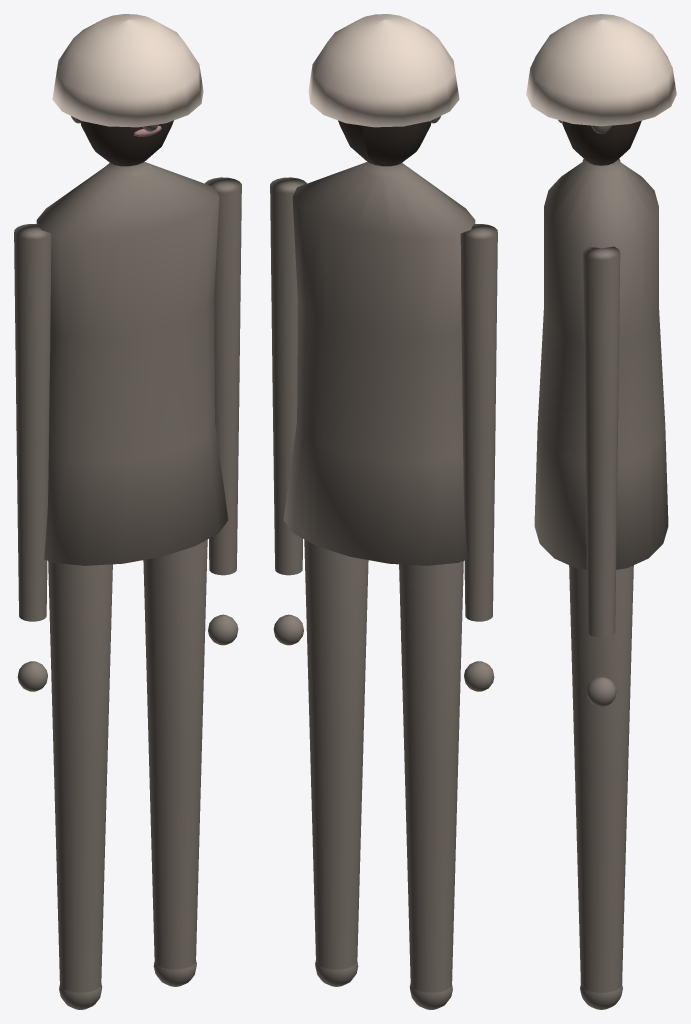
Rendered from avatar_mesh.glb.
The picture shows the model from 3 angles, left to right: view 1: azimuth 30°, elevation 25°; view 2: azimuth 150°, elevation 25°; view 3: azimuth 270°, elevation 25°; orthographic projection.
Visible parts, largest first — view 1: avatar; view 2: avatar; view 3: avatar.
Boxes of the visible parts, left/top/right/bottom form: avatar: left=14, top=14, right=241, bottom=1009; avatar: left=270, top=14, right=497, bottom=1009; avatar: left=526, top=14, right=676, bottom=1009.
Size of the model in its own units: 0.4113 by 1.72 by 0.2433.
6 materials, 1 textured.
